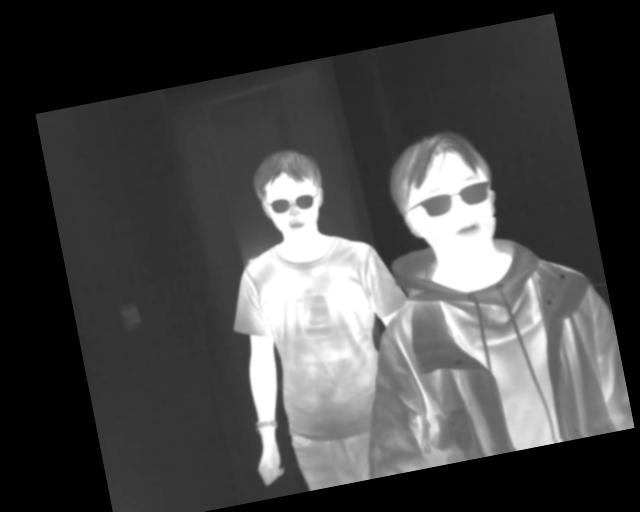face: (381, 122, 507, 268), (247, 143, 333, 246)
